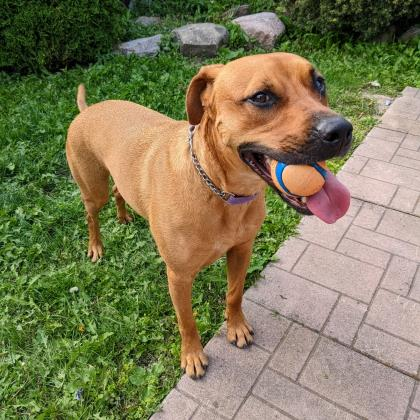dog: (66, 52, 352, 382)
